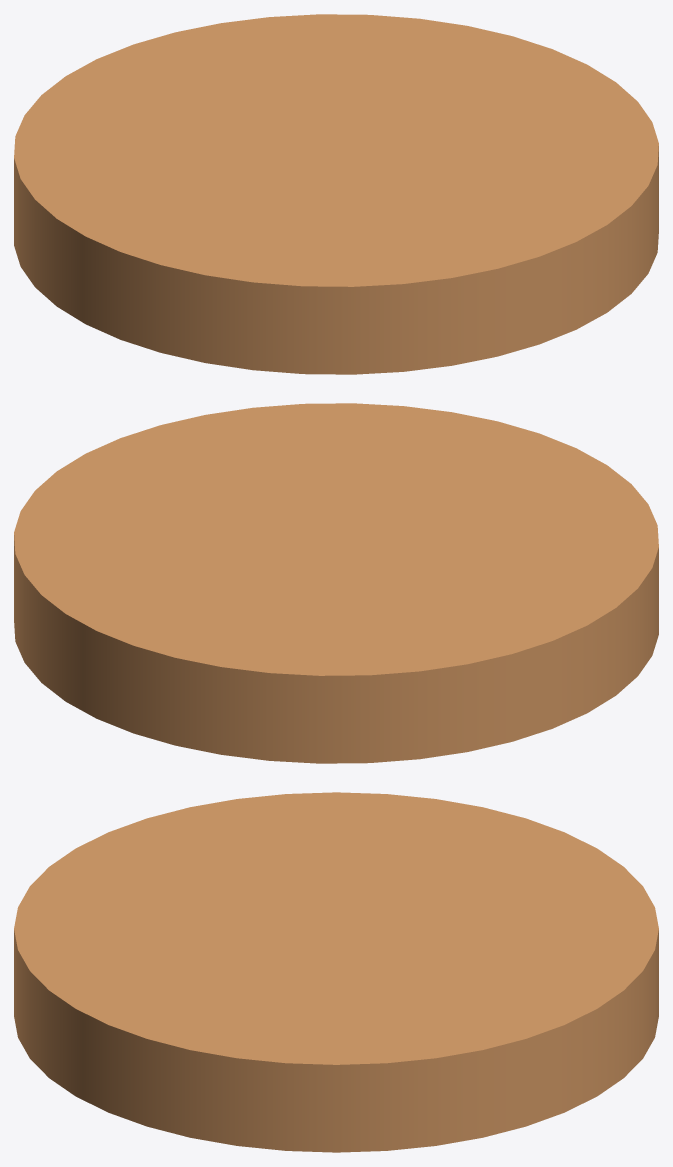
File: bread.fbx
3 views of the same model, one above another, from view 1: azimuth 30°, elevation 25°; view 2: azimuth 150°, elevation 25°; view 3: azimuth 270°, elevation 25° (orthographic).
Parts seen in each view (by area): view 1: pCylinder1; view 2: pCylinder1; view 3: pCylinder1.
Boxes of the visible parts, x1,y1,x2,y2 form: pCylinder1: (14,14,658,374); pCylinder1: (14,403,658,763); pCylinder1: (14,792,658,1152).
Size of the model in its own units: 2 by 0.3 by 2.
